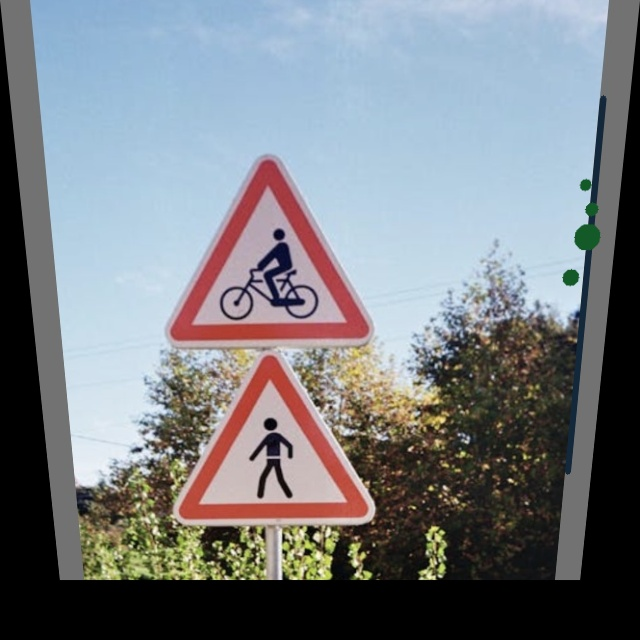Cycle_Crossing: (151, 151, 377, 350)
